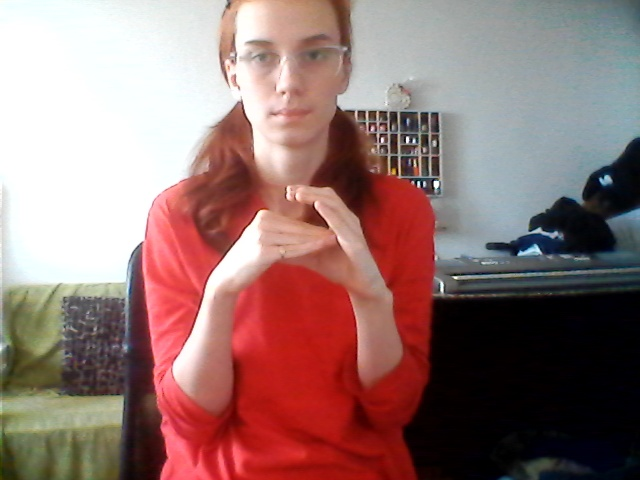e: (225, 177, 374, 318)
